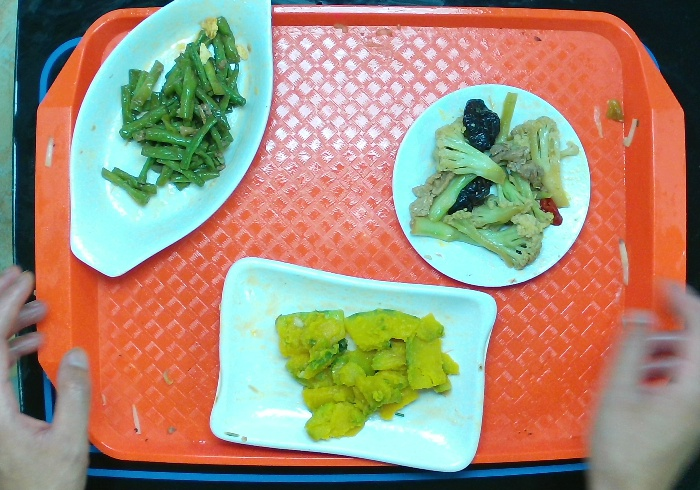RJxy-Si_Fang_Ao_Bian_Wan: (207, 255, 499, 475)
RJxy-Xiao_Yuan_Die: (390, 82, 592, 288)
RJxy-Yu_Pan: (68, 1, 276, 279)
